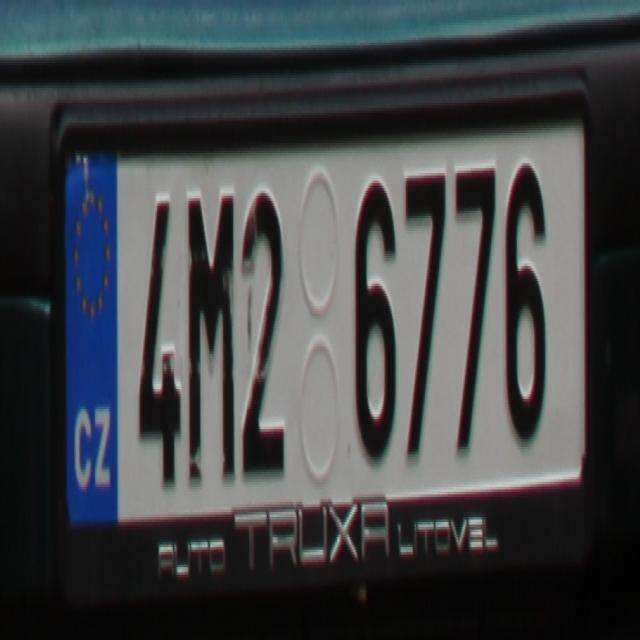2: (241, 176, 286, 479)
4: (134, 188, 182, 500)
6: (502, 141, 548, 444), (351, 166, 397, 467)
7: (451, 146, 498, 459), (402, 146, 446, 464)
M: (184, 181, 237, 484)
